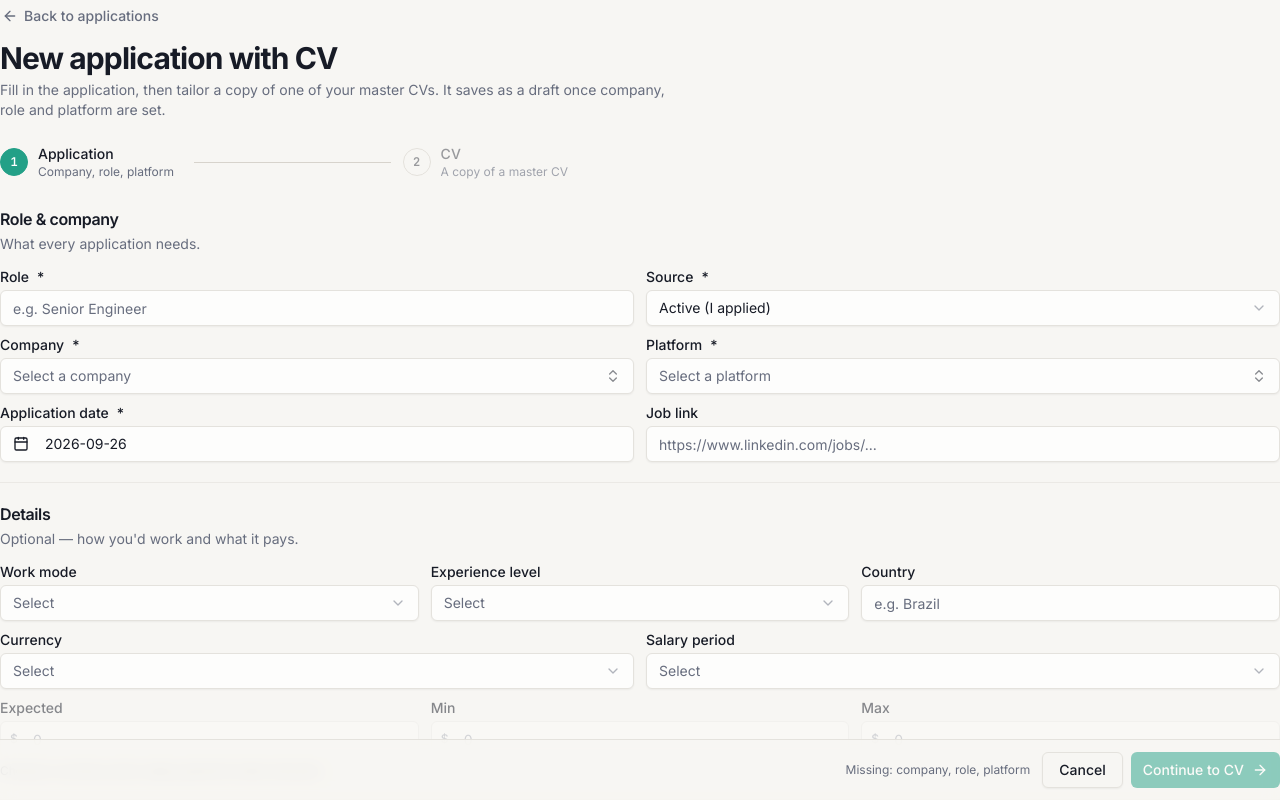
Test: NewWithCvPage — step 1 fields (AC1/AC3) › the calendar disables a day past today (maxDate wiring, kills a dropped-maxDate mutant)
The image size is (1280, 800).
Expected: the dropdown labelled "Select a platform" is shown, left=646, top=358, right=1279, bottom=394
What coordinates should you click on to do the following:
click the button named "application date"
I would click on:
 (86, 444)
Its box is left=0, top=426, right=634, bottom=462.
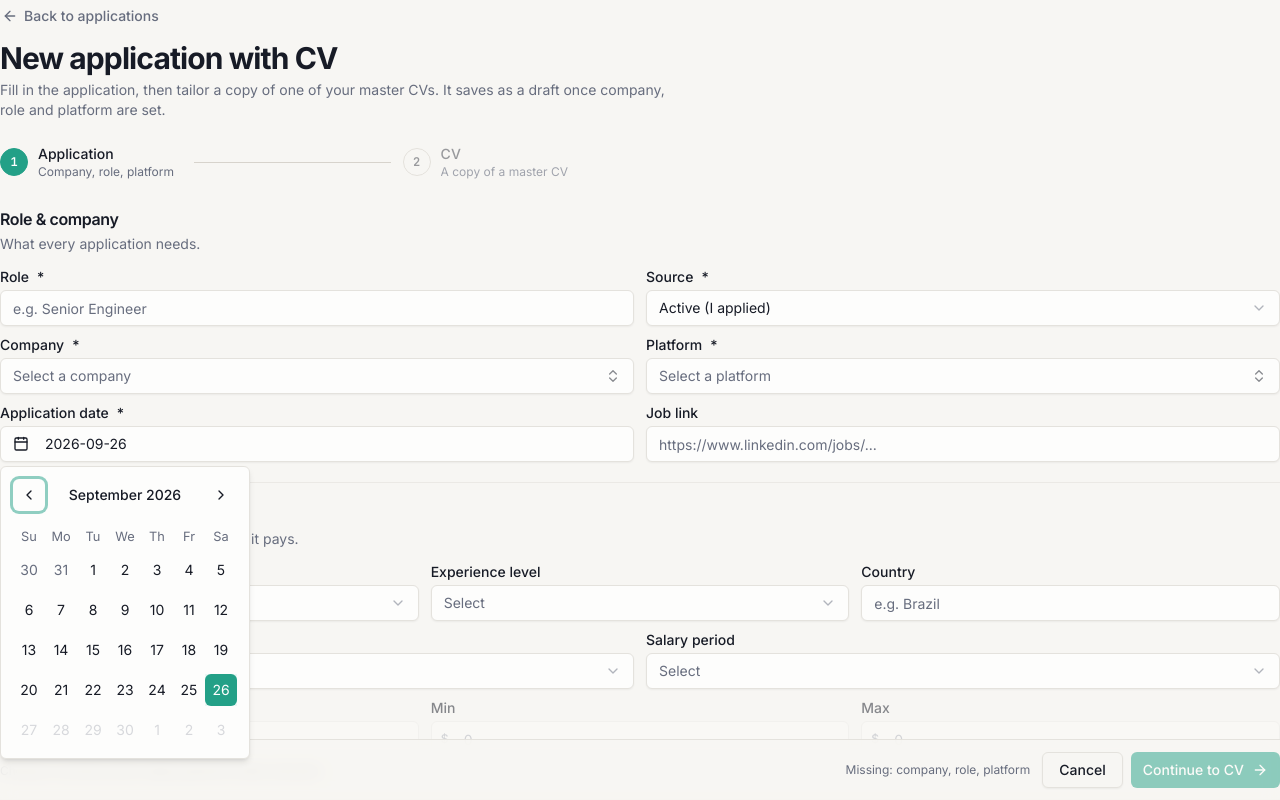
What coordinates should you click on to do the following:
click the button named "Go to the Next Month"
I would click on:
 (221, 495)
Its box is left=205, top=479, right=237, bottom=511.
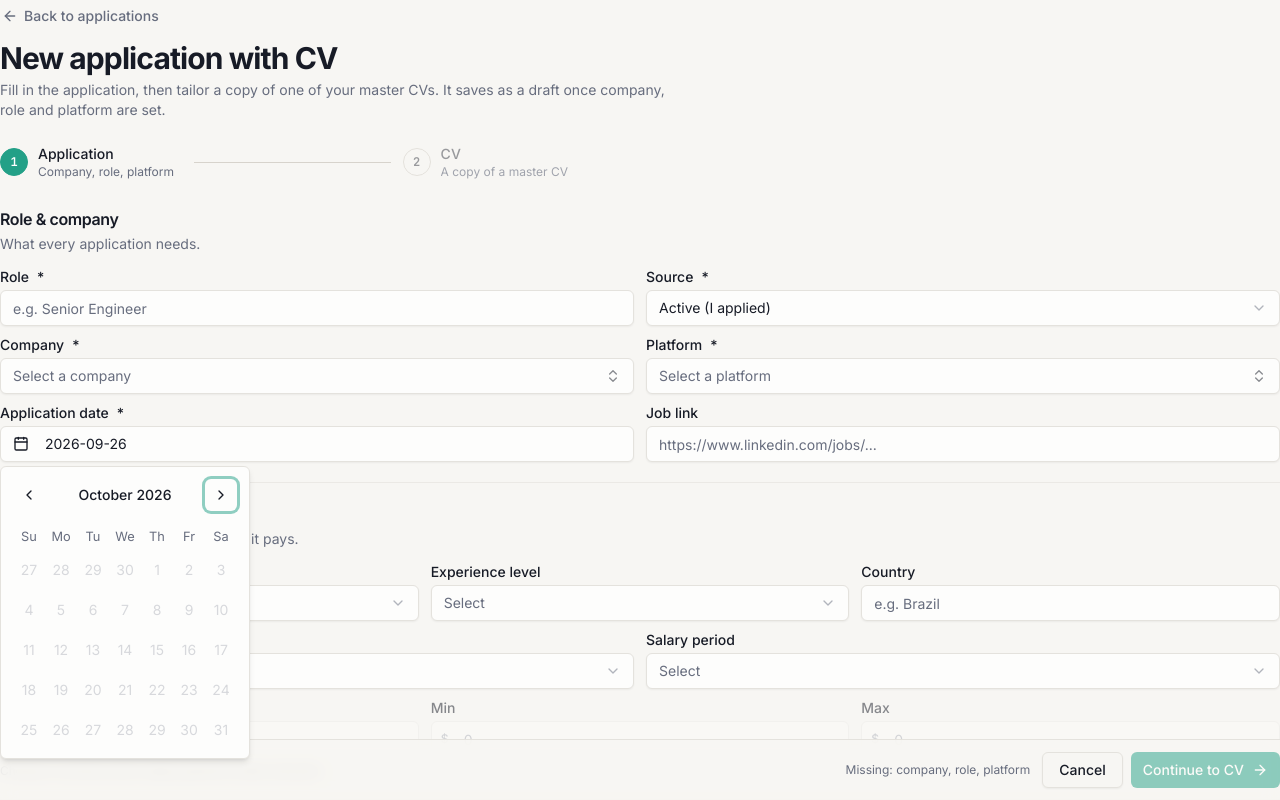
Result: the button "7" is disabled at left=109, top=594, right=141, bottom=626
